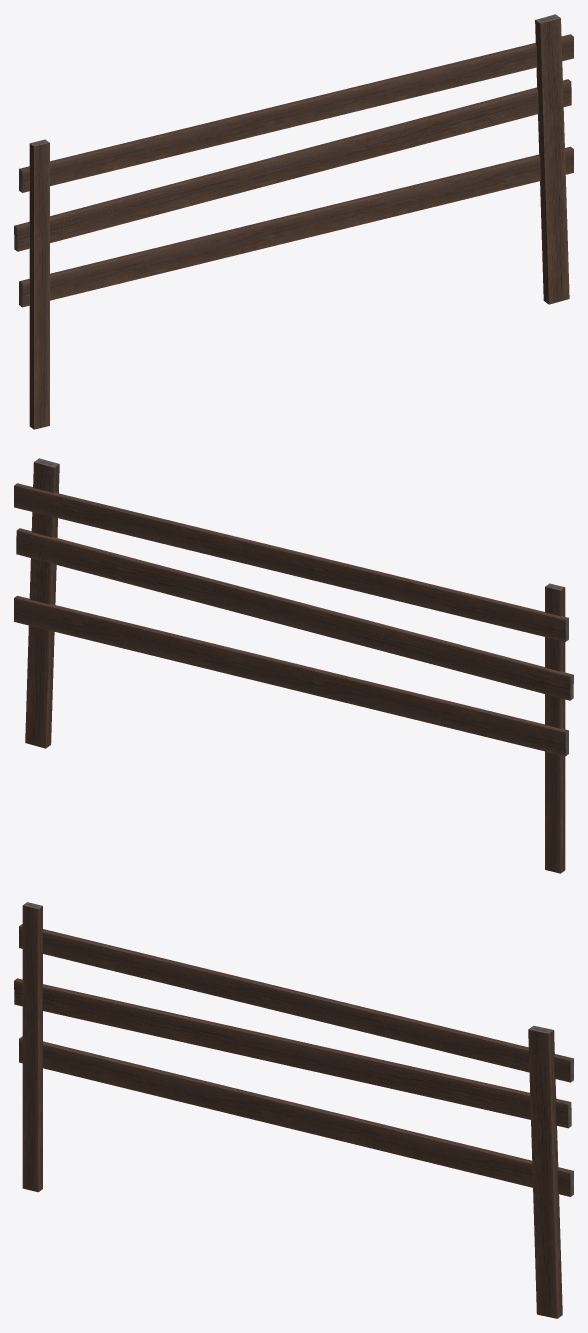
Rendered from fence07a_1t.fbx.
The picture shows the model from 3 angles, top to bottom: view 1: azimuth 30°, elevation 25°; view 2: azimuth 150°, elevation 25°; view 3: azimuth 330°, elevation 25°; orthographic projection.
Visible parts, largest first — view 1: fence07a_1t; view 2: fence07a_1t; view 3: fence07a_1t.
Boxes of the visible parts, x1,y1,x2,y2 form: fence07a_1t: (14, 14, 573, 429); fence07a_1t: (14, 458, 573, 873); fence07a_1t: (14, 902, 573, 1318).
Size of the model in its own units: 234 by 114 by 5.6.
